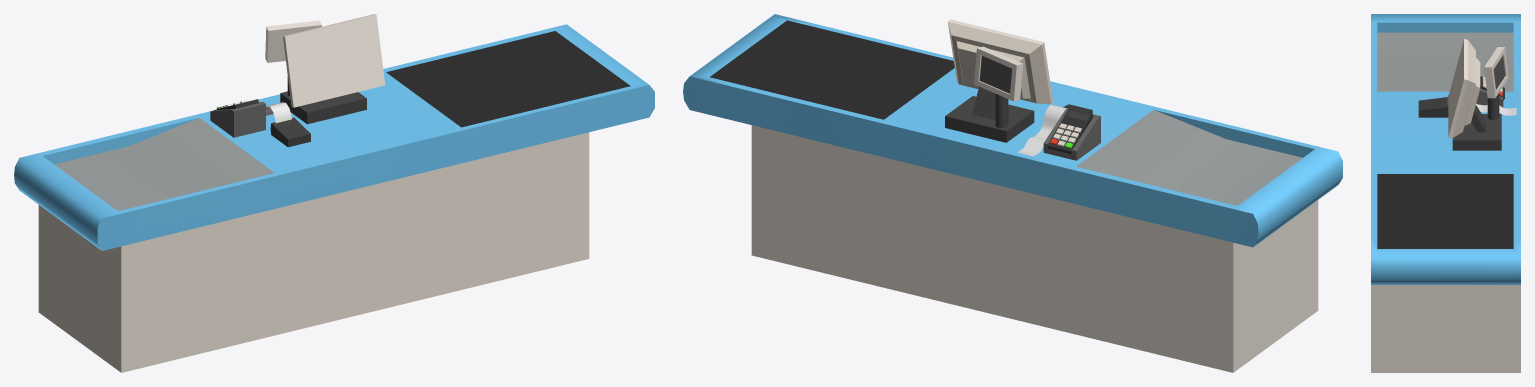
File: Cash.fbx
The picture shows the model from 3 angles, left to right: view 1: azimuth 30°, elevation 25°; view 2: azimuth 150°, elevation 25°; view 3: azimuth 270°, elevation 25°; orthographic projection. The views are drawn at different scales.
Parts seen in each view (by area): view 1: Cash; view 2: Cash; view 3: Cash.
Part boxes in pixels (x1,y1,x2,y2): Cash: [14, 14, 654, 372]; Cash: [683, 14, 1342, 372]; Cash: [1371, 14, 1520, 372].
Bounding box in the file's own units: 855 × 359 × 219.
